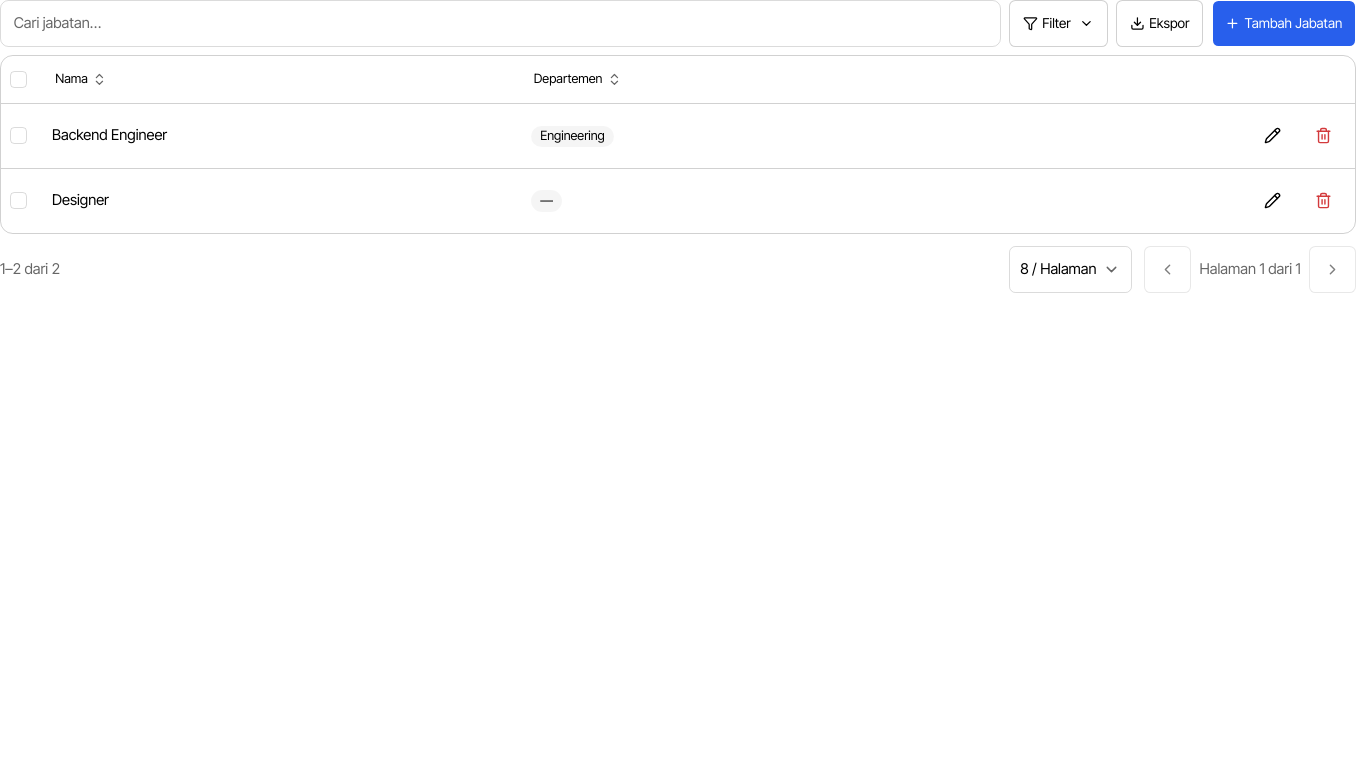
Test: JobPositionsSection › opens the create dialog from the add button
Expected: the text "Backend Engineer" is shown, [52,126,167,144]
Click the button "Tambah Jabatan". click: (1284, 23)
box: [1212,0,1356,47]
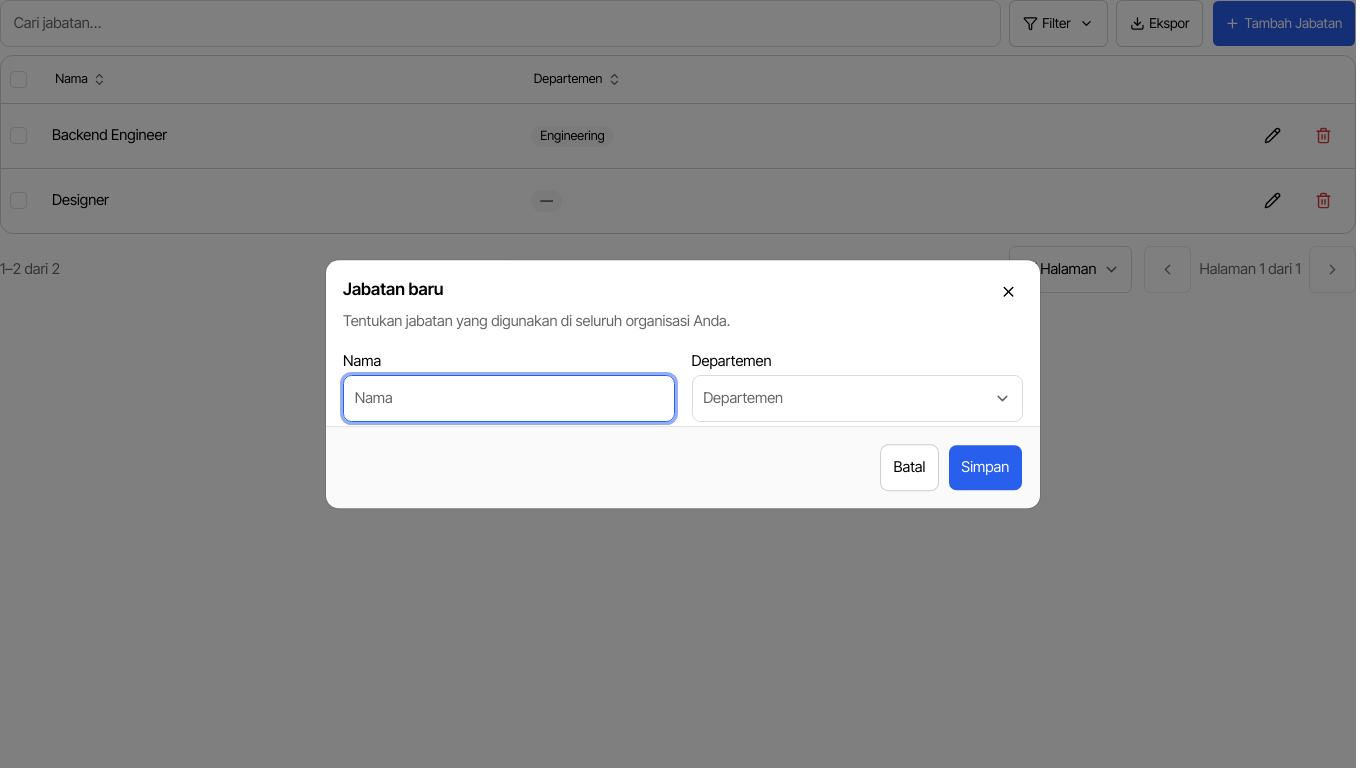
Expected: the heading "Jabatan baru" is shown, [343,277,444,303]
